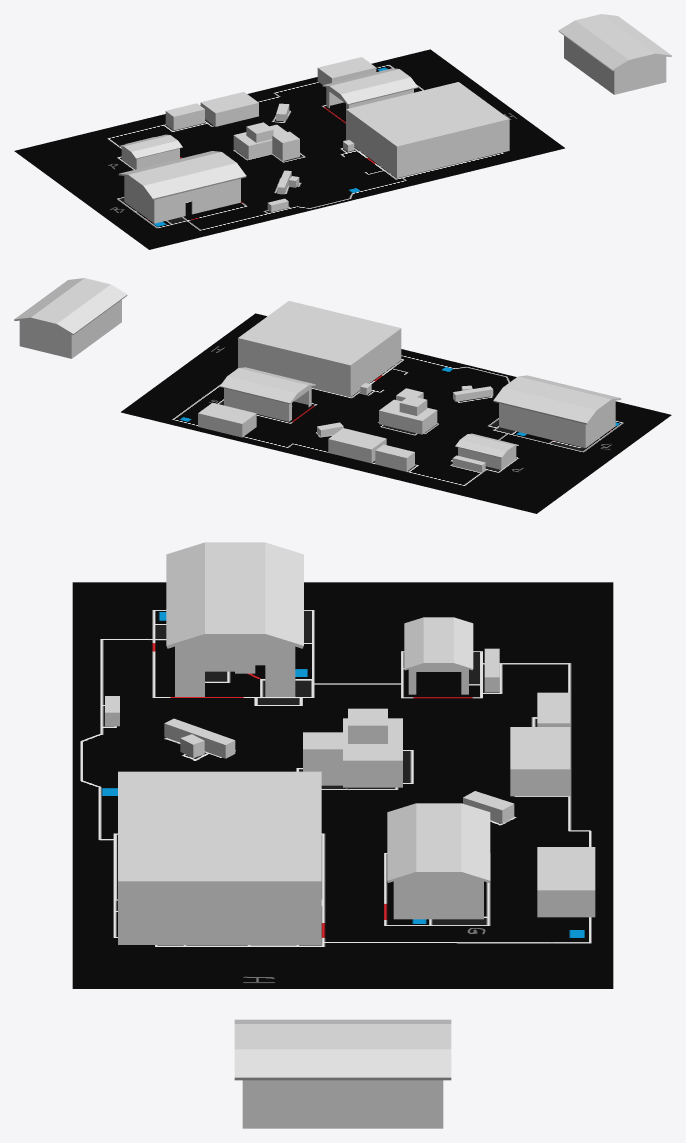
File: farm.fbx
The picture shows the model from 3 angles, top to bottom: view 1: azimuth 30°, elevation 25°; view 2: azimuth 150°, elevation 25°; view 3: azimuth 270°, elevation 25°; orthographic projection. The views are drawn at different scales.
Parts seen in each view (by area): view 1: floor, house-outer, barn-outer, outer-basic, garage-outer, shed-outer, misc-box-7, misc-box-4, misc-box-2, misc-box-6, misc-box-1, misc-box-3; view 2: floor, house-outer, barn-outer, outer-basic, garage-outer, shed-outer, misc-box-4, misc-box-7, misc-box-2, misc-box-6, misc-box-3, misc-box-12 (+1 smaller); view 3: floor, house-outer, outer-basic, barn-outer, garage-outer, misc-box-7, misc-box-4, shed-outer, misc-box-2, misc-box-1, misc-box-3, misc-box-12 (+2 smaller).
Part boxes in pixels (x1,y1,x2,y2): floor: (14, 49, 564, 249); house-outer: (346, 82, 509, 178); barn-outer: (118, 151, 246, 223); outer-basic: (558, 14, 671, 94); garage-outer: (322, 68, 417, 109); shed-outer: (119, 134, 182, 169); misc-box-7: (200, 92, 258, 126); misc-box-4: (317, 57, 376, 87); misc-box-2: (233, 124, 286, 159); misc-box-6: (165, 103, 204, 130); misc-box-1: (272, 131, 299, 160); misc-box-3: (246, 122, 273, 142); floor: (121, 313, 671, 513); house-outer: (238, 301, 401, 396); barn-outer: (493, 375, 621, 447); outer-basic: (14, 278, 127, 358); garage-outer: (220, 367, 315, 421); shed-outer: (455, 433, 518, 469); misc-box-4: (198, 402, 256, 437); misc-box-7: (328, 428, 386, 462); misc-box-2: (379, 399, 437, 434); misc-box-6: (375, 444, 414, 471); misc-box-3: (399, 395, 427, 415); misc-box-12: (453, 386, 493, 401); floor: (72, 582, 613, 988); house-outer: (118, 771, 321, 944); outer-basic: (234, 1019, 451, 1128); barn-outer: (166, 542, 303, 696); garage-outer: (387, 803, 490, 919); misc-box-7: (510, 727, 570, 796); misc-box-4: (537, 847, 595, 917); shed-outer: (404, 617, 473, 694); misc-box-2: (343, 718, 402, 787); misc-box-1: (303, 732, 342, 785); misc-box-3: (348, 708, 387, 743); misc-box-12: (164, 718, 235, 758).
Bounding box in the file's own units: 12986 × 893 × 5400.
